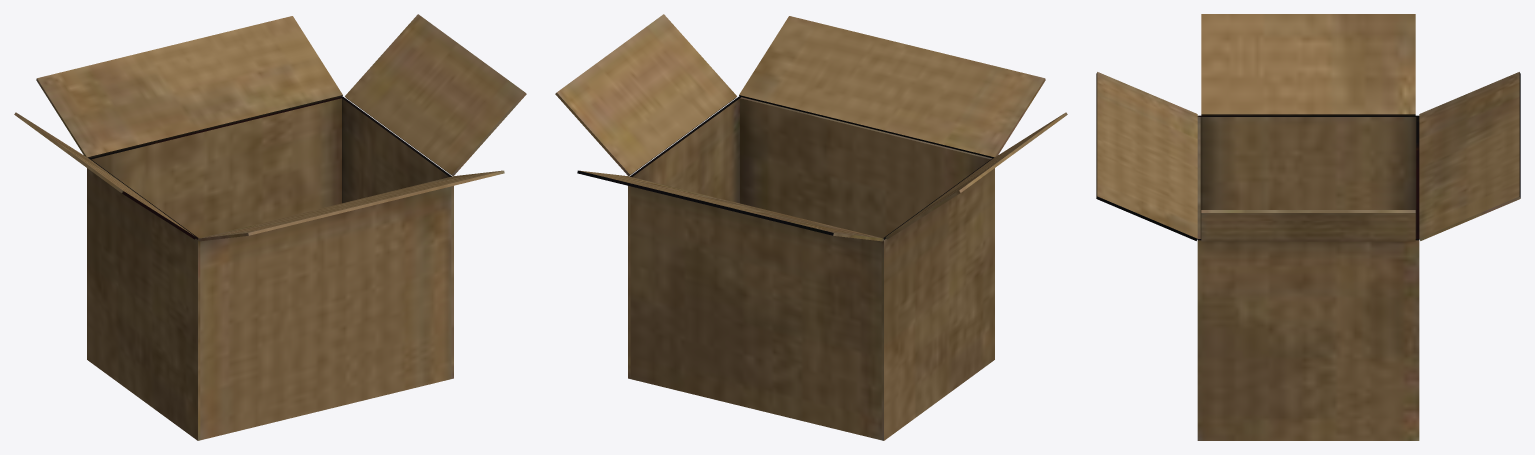
File: box_open_lod1_web.glb
3 views of the same model, side by side, from view 1: azimuth 30°, elevation 25°; view 2: azimuth 150°, elevation 25°; view 3: azimuth 270°, elevation 25° (orthographic).
Parts seen in each view (by area): view 1: BoxOpen_Body; view 2: BoxOpen_Body; view 3: BoxOpen_Body.
Part boxes in pixels (box(x1,y1,x2,y2)): BoxOpen_Body: box(14, 14, 526, 440); BoxOpen_Body: box(555, 14, 1067, 440); BoxOpen_Body: box(1096, 14, 1520, 440).
Bounding box in the file's own units: 0.6339 × 0.3986 × 0.5754.
1 material, 1 textured.
